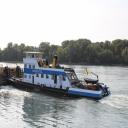tugboat: (6, 45, 113, 103)
